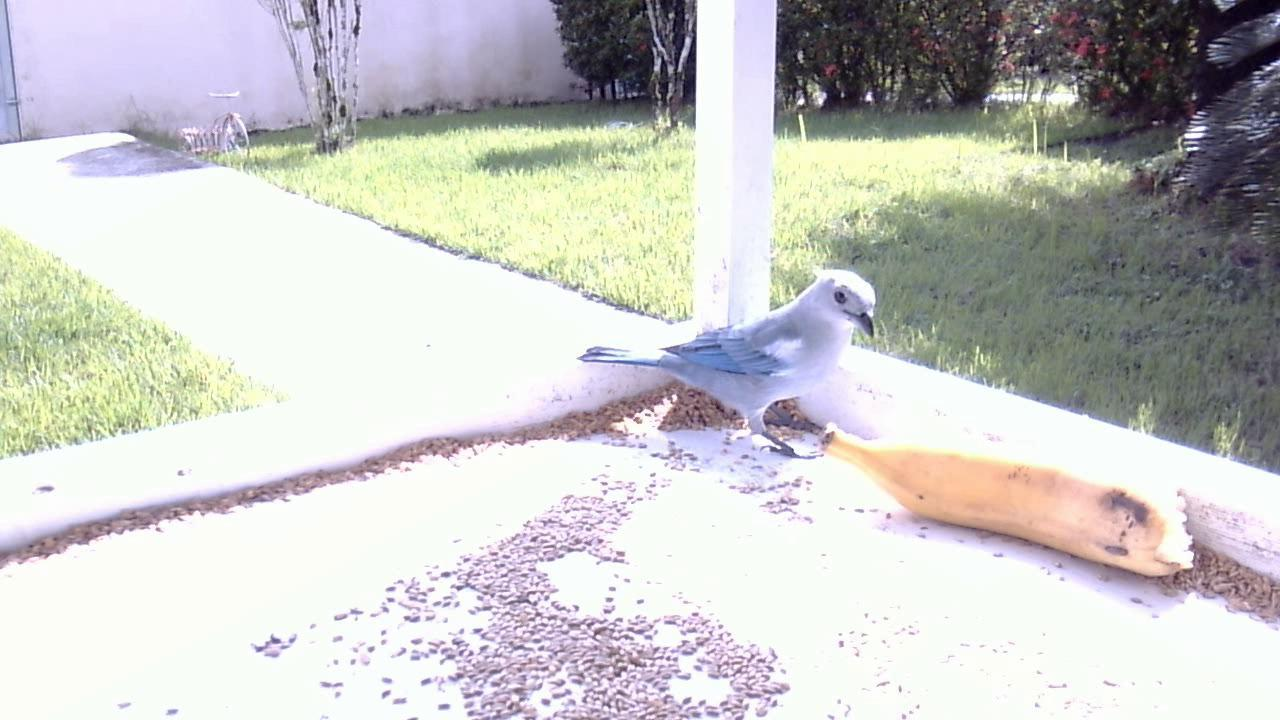sanhaco_da_amazonia: (578, 266, 882, 464)
